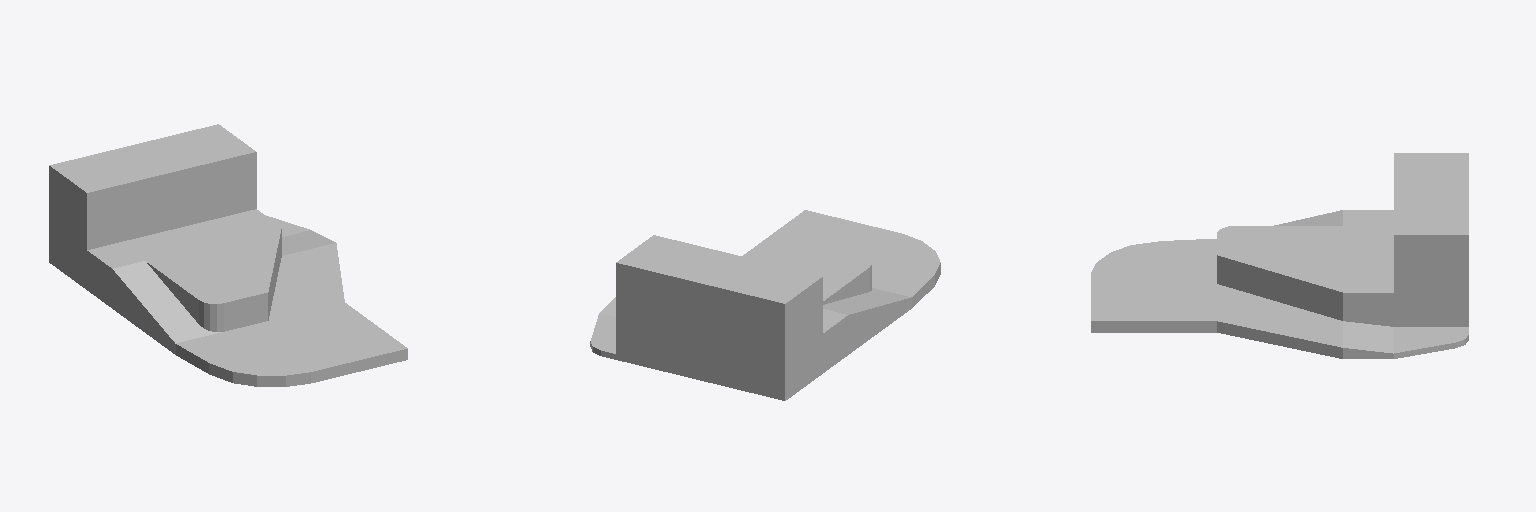
Rendered from test_area2.obj.
The picture shows the model from 3 angles: view 1: azimuth 30°, elevation 25°; view 2: azimuth 150°, elevation 25°; view 3: azimuth 270°, elevation 25°; orthographic projection.
Parts seen in each view (by area): view 1: Plane; view 2: Plane; view 3: Plane.
Boxes of the visible parts, x1,y1,x2,y2 form: Plane: [49, 124, 407, 386]; Plane: [590, 210, 940, 400]; Plane: [1091, 153, 1468, 358].
Size of the model in its own units: 41 by 17 by 60.